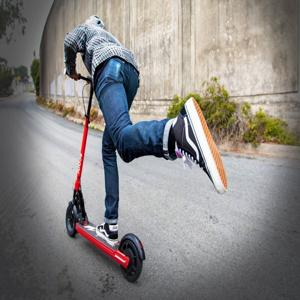human on a scooter: (62, 13, 229, 284)
